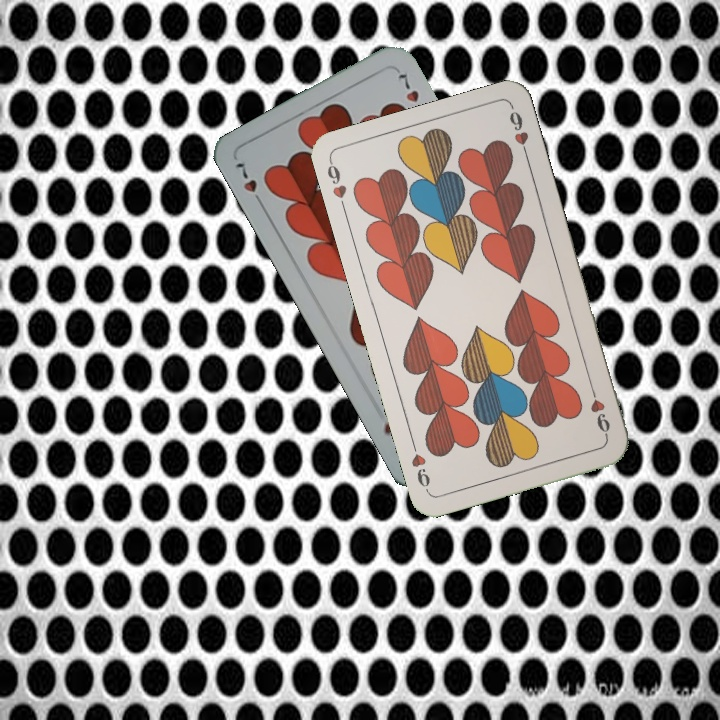H7: (231, 158, 267, 210)
H9: (586, 383, 613, 441), (323, 157, 349, 215)
